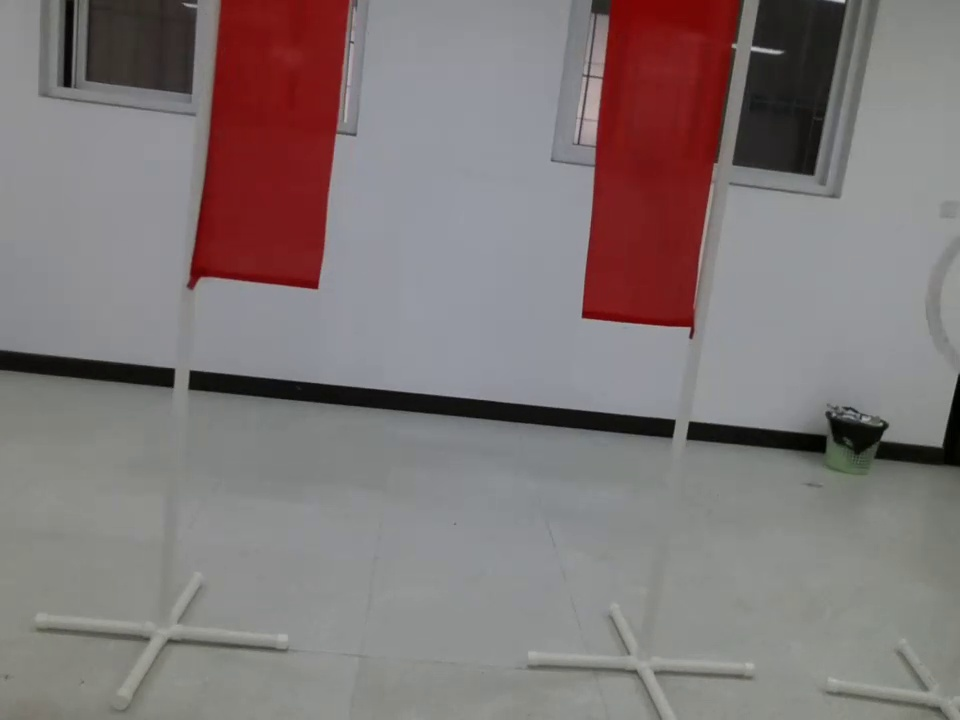qi: (575, 1, 760, 356), (172, 5, 359, 293)
